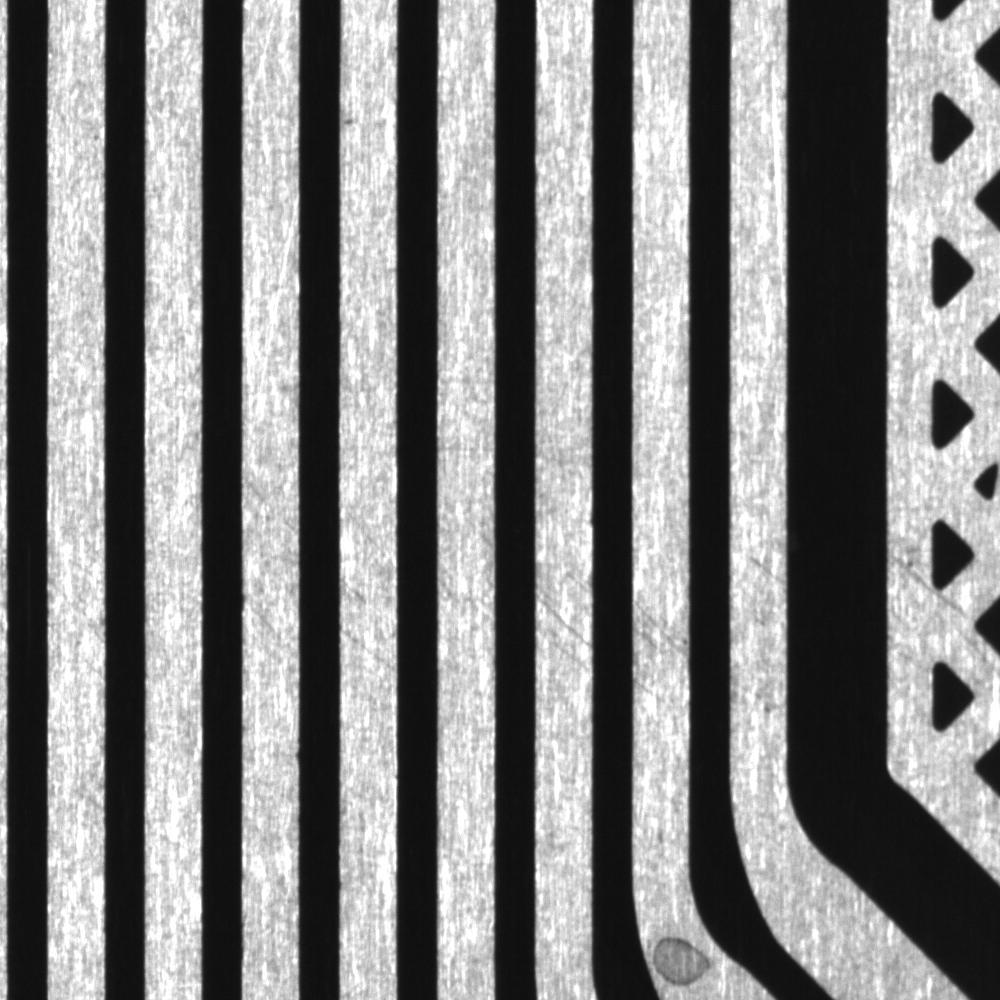Discolor: (650, 929, 711, 987)
Etching: (340, 105, 368, 139)
Scar: (239, 457, 306, 680), (336, 474, 399, 689), (438, 481, 498, 694), (631, 575, 694, 748), (537, 538, 595, 689), (743, 543, 789, 591), (890, 552, 936, 591)
